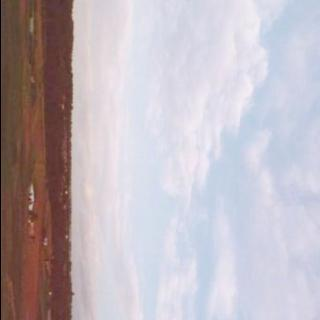Stratus: (73, 0, 320, 320)
